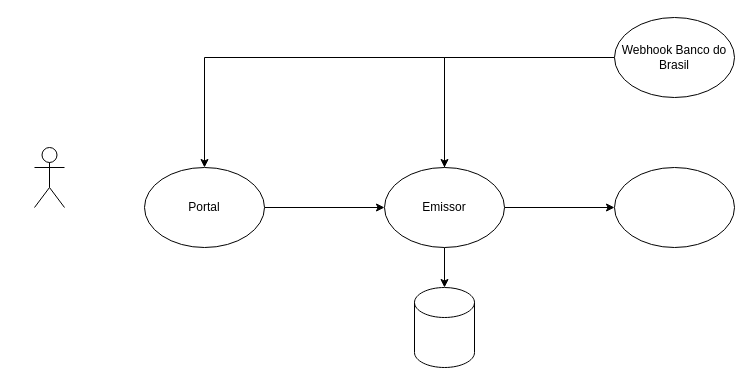
The diagram is 752 pixels wide and 385 high, and some of its shapes have lost their labels. Here are the shapes that lost their labels. From the top down, the box of each, then its label:
(34, 146, 64, 208): Agente V/ID
(614, 166, 734, 248): Banco do Brasil
